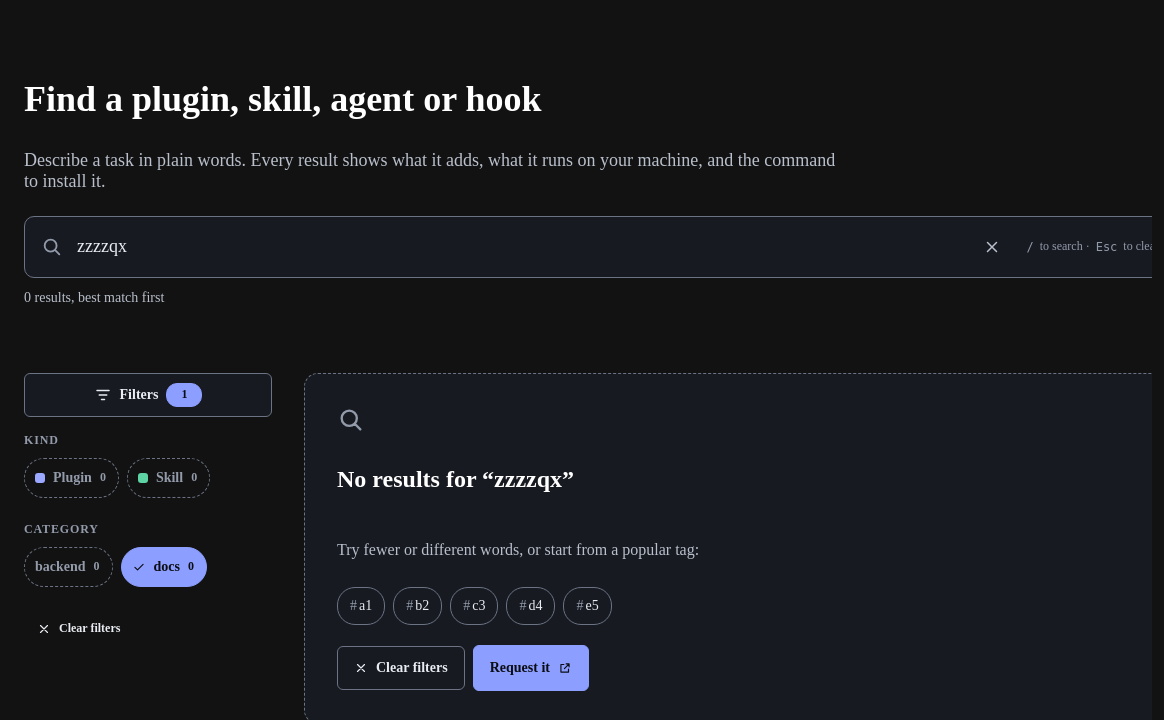
it: SearchPage › with filters the empty state offers Clear filters, which keeps q
What coordinates should you click on to do the following:
click the button "Clear filters" next to "Request it"
I would click on:
 (401, 668)
Its box is [337,646,465,690].
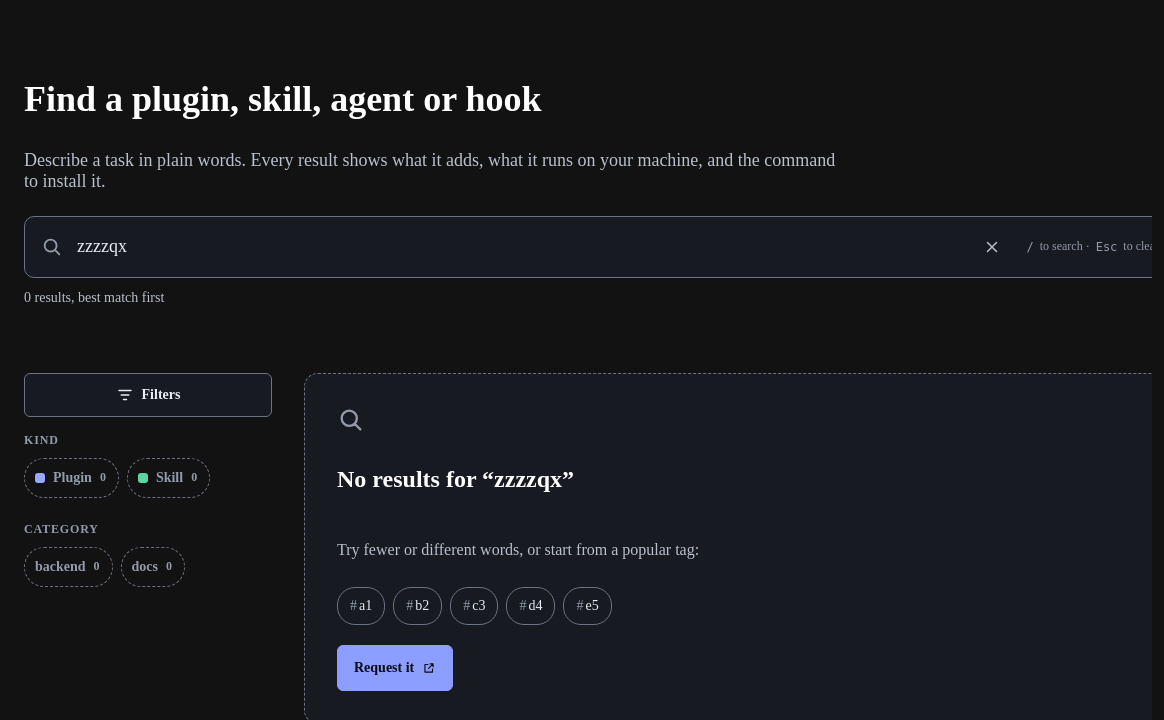
Expected: the search field holds "zzzzqx", [75,218,958,276]
Result: the button with class "state-panel" no longer shows "Clear filters"
